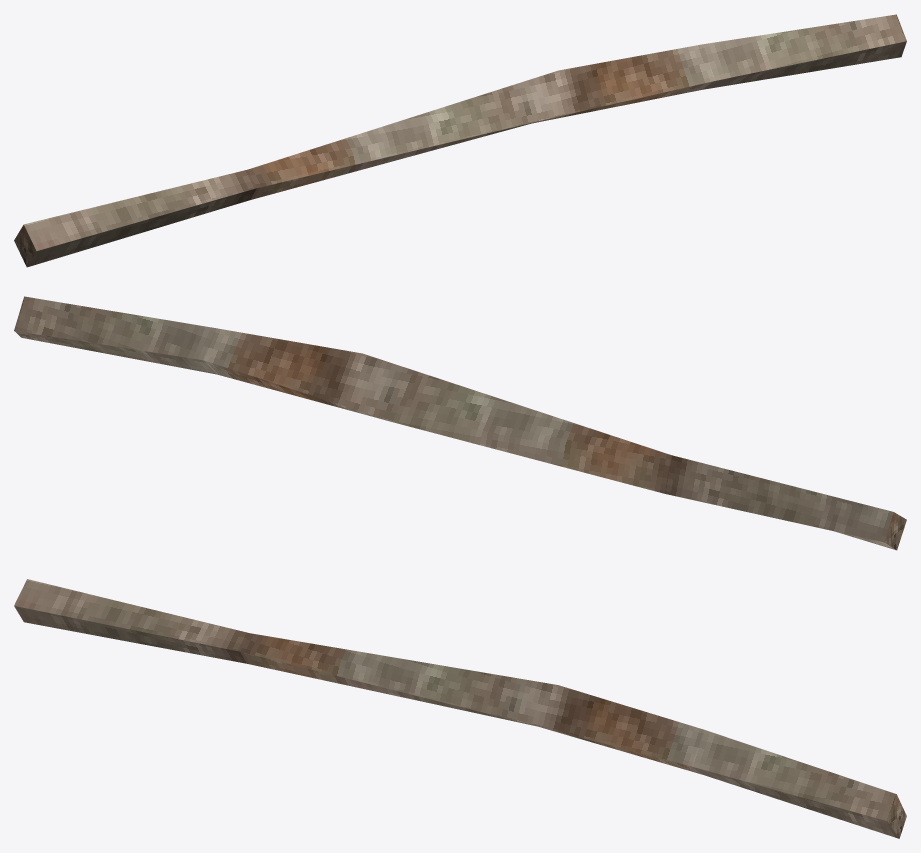
Rendered from wooden_fence_beam_alt_2.glb.
The picture shows the model from 3 angles, top to bottom: view 1: azimuth 30°, elevation 25°; view 2: azimuth 150°, elevation 25°; view 3: azimuth 330°, elevation 25°; orthographic projection.
Parts seen in each view (by area): view 1: wooden_fence_beam_alt_2; view 2: wooden_fence_beam_alt_2; view 3: wooden_fence_beam_alt_2.
Part boxes in pixels (bbox=[...]): wooden_fence_beam_alt_2: bbox=[14, 14, 906, 267]; wooden_fence_beam_alt_2: bbox=[14, 296, 906, 550]; wooden_fence_beam_alt_2: bbox=[14, 579, 906, 838].
Size of the model in its own units: 2.02 by 0.1519 by 0.1312.
Materials: 1 (1 with a texture image).
